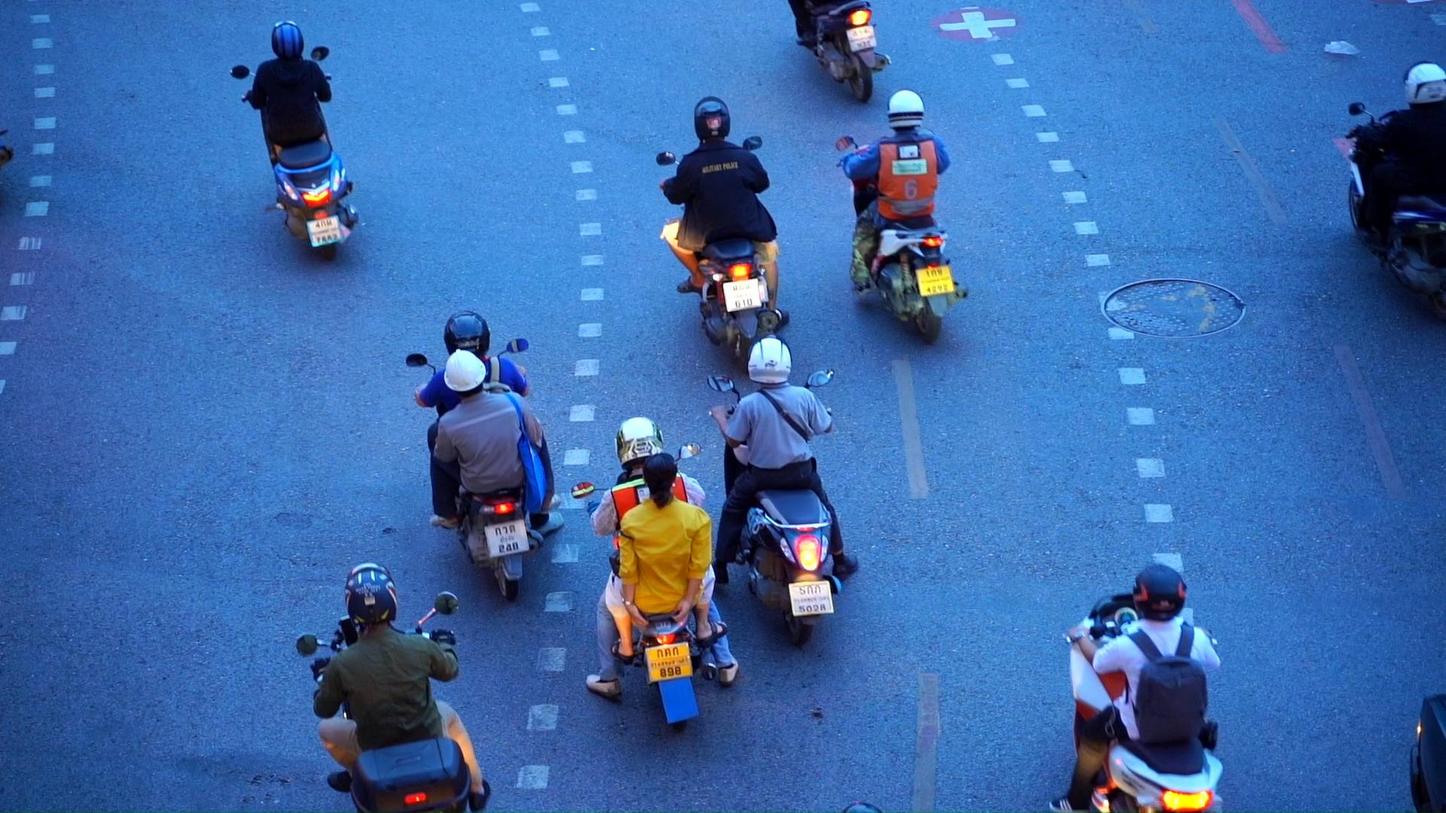driver: (571, 416, 741, 733), (296, 561, 492, 813), (707, 333, 857, 647), (407, 309, 565, 602), (1047, 564, 1226, 813), (656, 96, 789, 375), (836, 89, 969, 344), (229, 20, 359, 262), (1344, 60, 1446, 323), (788, 0, 892, 102)
helmet: (345, 561, 399, 633), (1133, 564, 1187, 623), (617, 416, 664, 470), (444, 310, 490, 360), (748, 334, 792, 385), (444, 349, 487, 399), (1403, 60, 1446, 105), (694, 96, 730, 145), (888, 89, 925, 132), (272, 21, 305, 61)
no-helmet: (642, 452, 678, 511)
